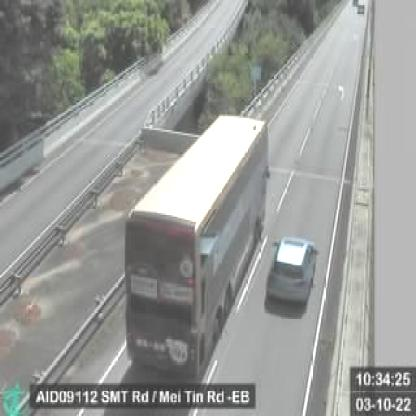Bus: (125, 114, 266, 374)
Car: (268, 236, 316, 308)
